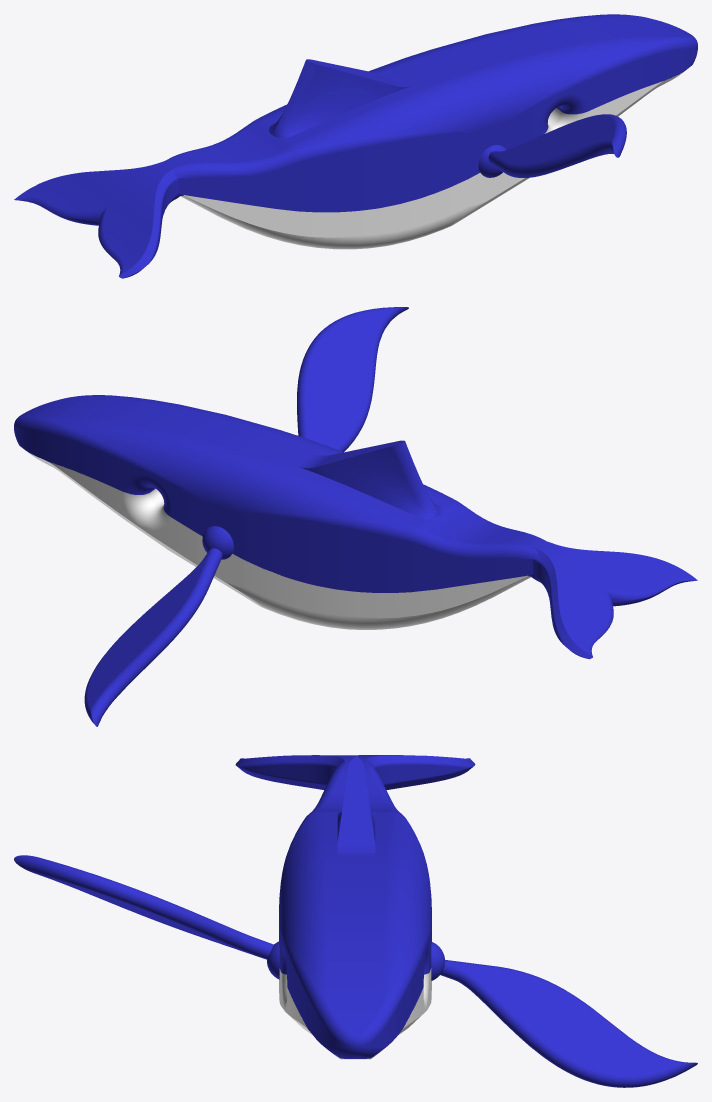
File: baleine.glb
3 renders of one model, top to bottom at view 1: azimuth 30°, elevation 25°; view 2: azimuth 150°, elevation 25°; view 3: azimuth 270°, elevation 25°, orthographic. The views are drawn at different scales.
Size of the model in its own units: 0.1895 by 0.0615 by 0.1635.
